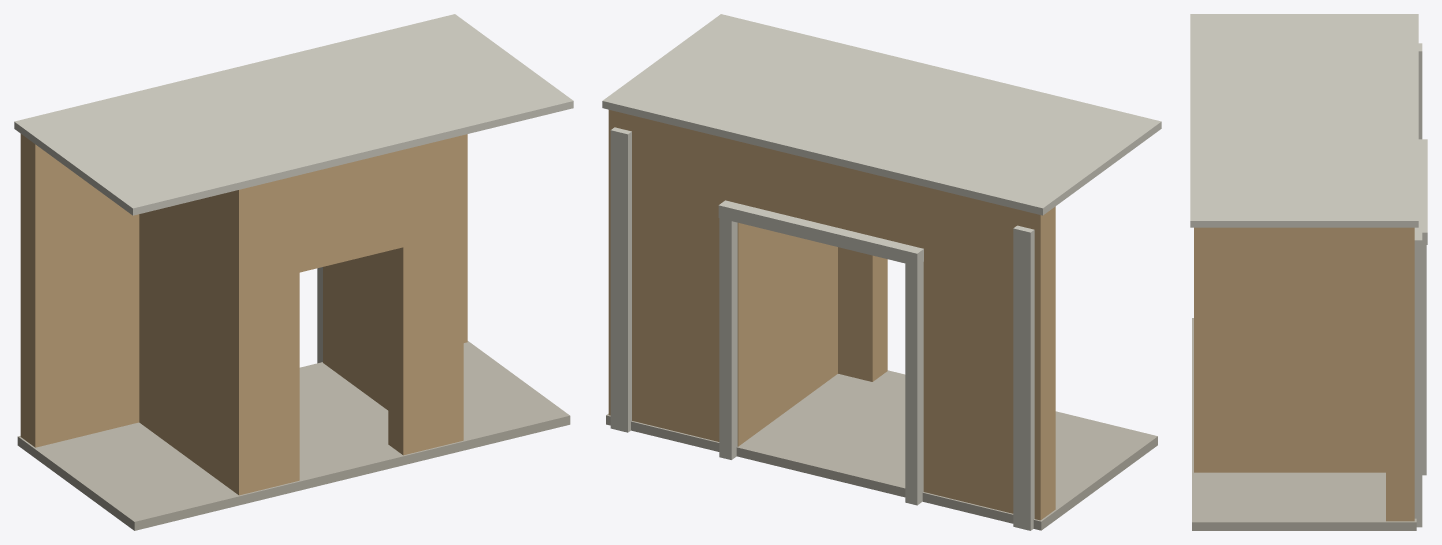
The model's file is mod_facade_recess_b.glb.
3 renders of one model, left to right at view 1: azimuth 30°, elevation 25°; view 2: azimuth 150°, elevation 25°; view 3: azimuth 270°, elevation 25°, orthographic. The views are drawn at different scales.
Parts seen in each view (by area): view 1: LOD0; view 2: LOD0; view 3: LOD0.
Part boxes in pixels (left/top/right/bottom): LOD0: left=14, top=14, right=573, bottom=530; LOD0: left=602, top=14, right=1161, bottom=530; LOD0: left=1190, top=14, right=1427, bottom=530.
Bounding box in the file's own units: 5.1 × 3.58 × 2.47.
